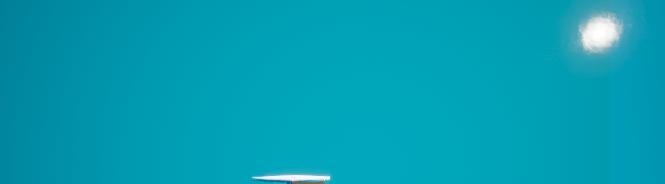land_base: (567, 1, 636, 63)
